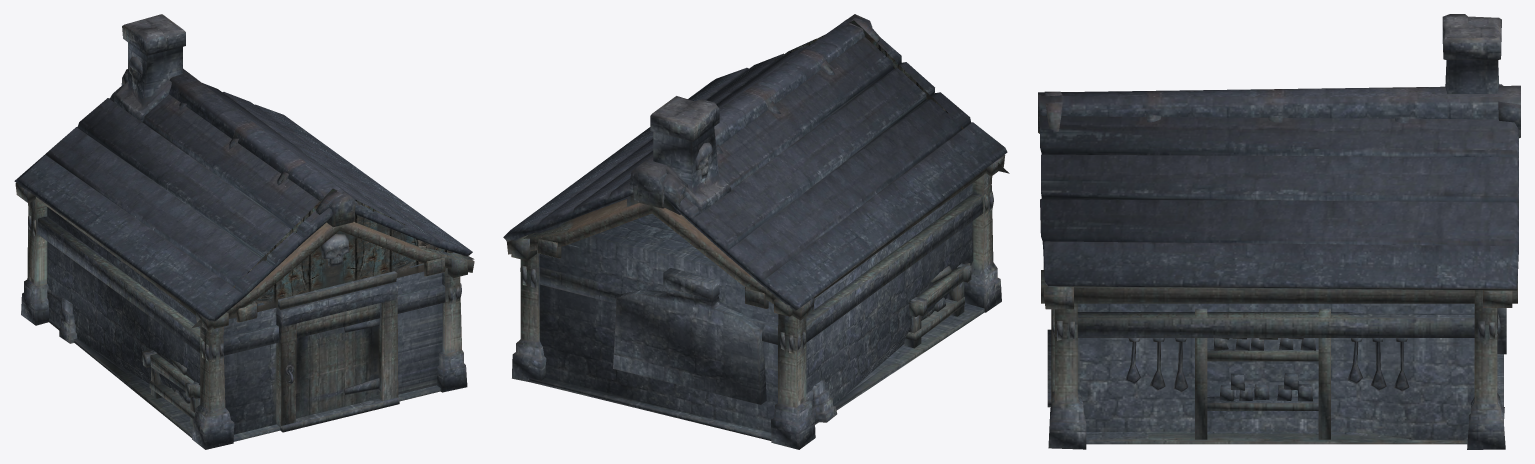
Rendered from smithy.glb.
The picture shows the model from 3 angles, left to right: view 1: azimuth 30°, elevation 25°; view 2: azimuth 150°, elevation 25°; view 3: azimuth 270°, elevation 25°; orthographic projection. The views are drawn at different scales.
Visible parts, largest first — view 1: tripo_node_5bc39d5f-46d0-4463-80db-4c262b3427b2, Smithy recessed gable infill; view 2: tripo_node_5bc39d5f-46d0-4463-80db-4c262b3427b2, Smithy recessed gable infill; view 3: tripo_node_5bc39d5f-46d0-4463-80db-4c262b3427b2.
Part boxes in pixels (x1,y1,x2,y2): tripo_node_5bc39d5f-46d0-4463-80db-4c262b3427b2: (14, 14, 474, 449); Smithy recessed gable infill: (191, 188, 474, 328); tripo_node_5bc39d5f-46d0-4463-80db-4c262b3427b2: (503, 14, 1007, 449); Smithy recessed gable infill: (771, 20, 1009, 173); tripo_node_5bc39d5f-46d0-4463-80db-4c262b3427b2: (1038, 14, 1520, 449).
Size of the model in its own units: 8.4 by 7.77 by 10.
Materials: 2 (2 with a texture image).
